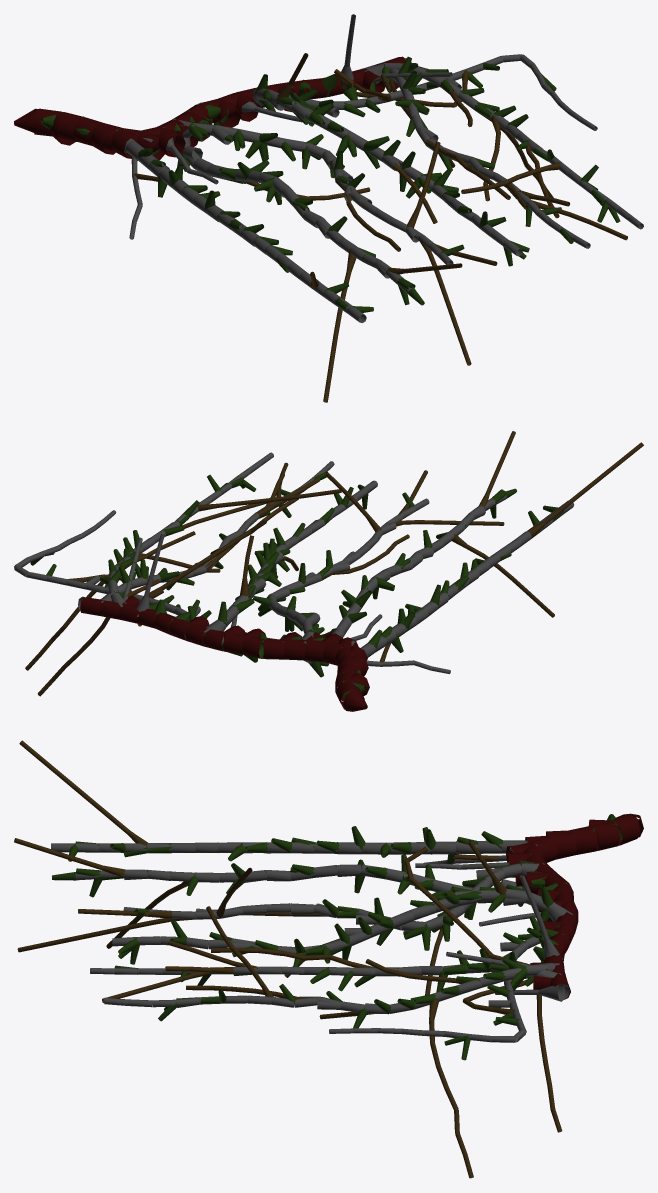
File: tree_9.obj
3 renders of one model, top to bottom at view 1: azimuth 30°, elevation 25°; view 2: azimuth 150°, elevation 25°; view 3: azimuth 270°, elevation 25°, orthographic. The views are drawn at different scales.
Bounding box in the file's own units: 22.79 × 9.92 × 26.16.
